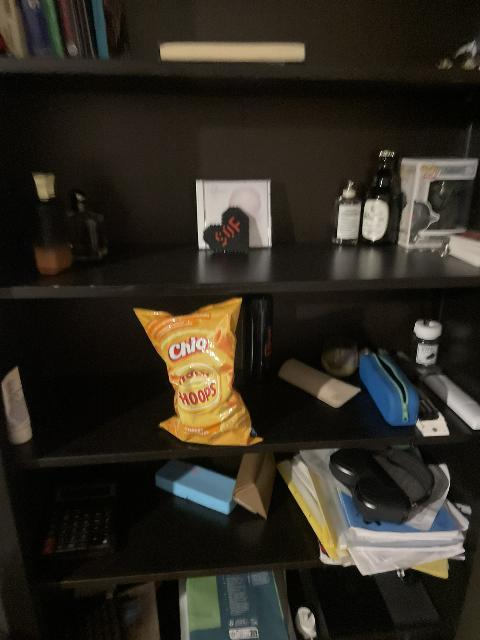Chio Hula Hoops Cheese 70g: (133, 303, 263, 445)
